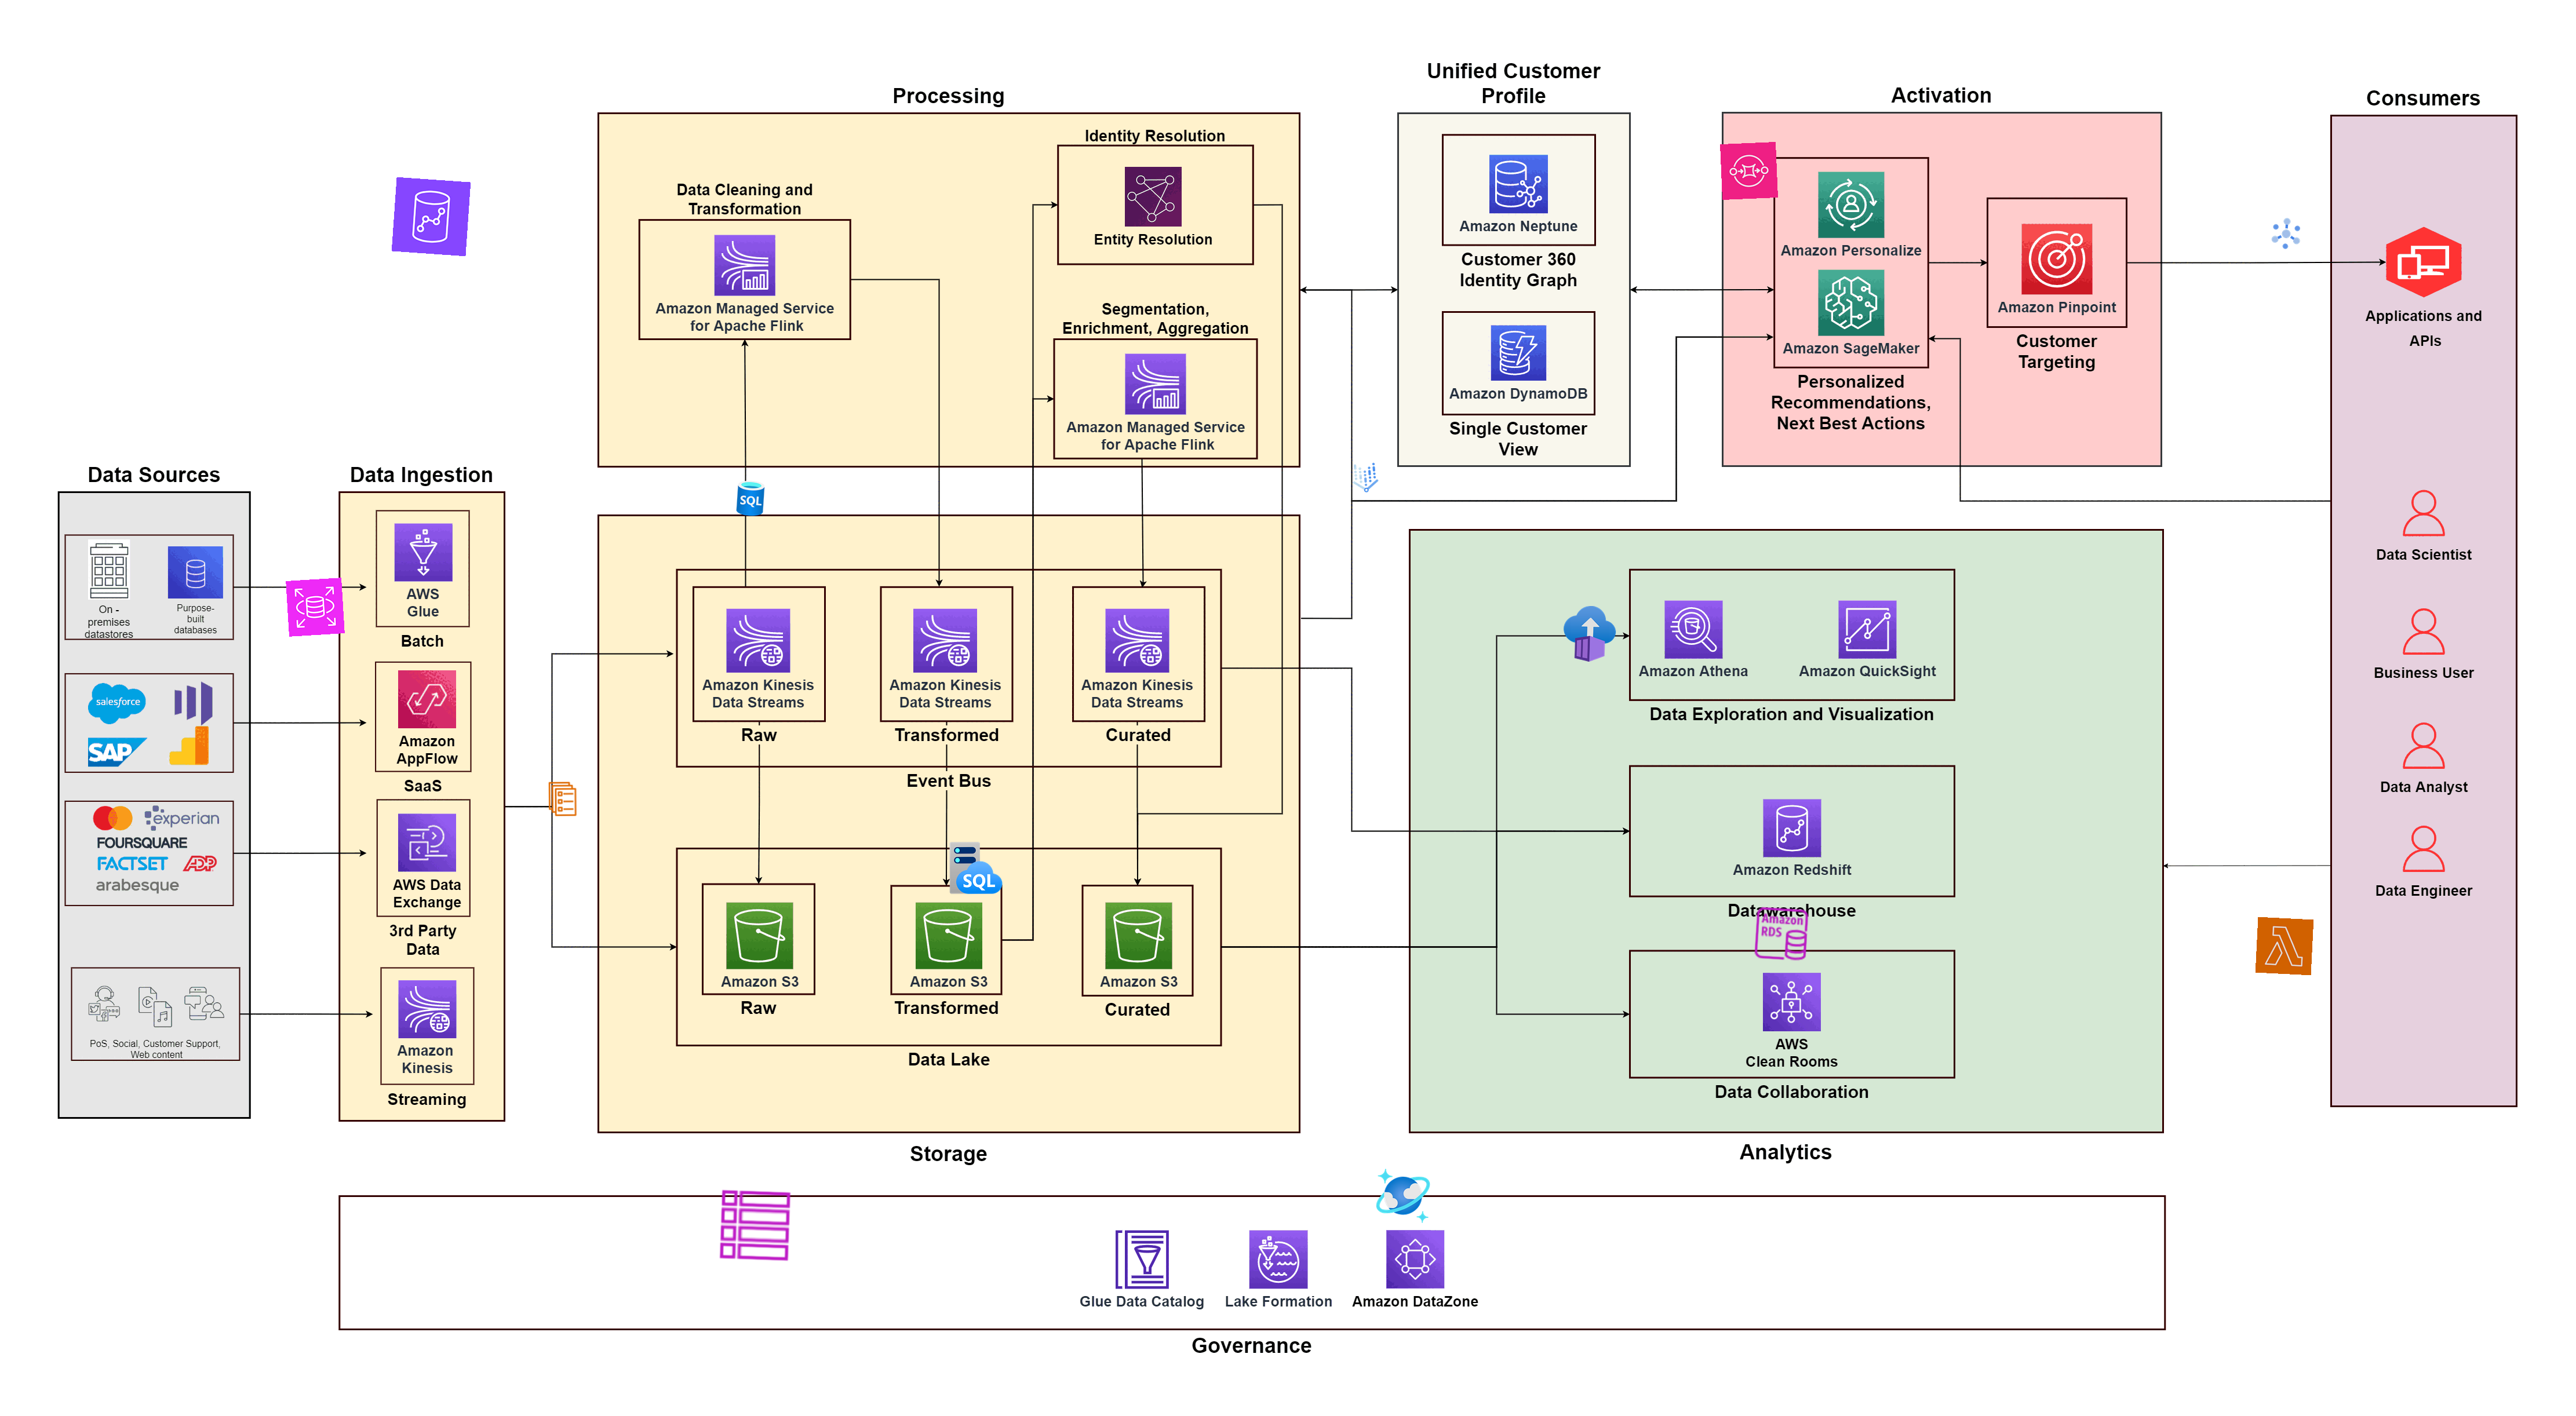aws_amazon_rds: (286, 577, 345, 637)
aws_amazon_redshift: (391, 176, 471, 256)
aws_amazon_simple_queue_service: (1720, 141, 1777, 201)
aws_aurora_amazon_rds_instance: (1751, 905, 1810, 964)
aws_dynamodb_table: (717, 1186, 794, 1264)
aws_elastic_container_service_service: (544, 779, 583, 818)
aws_lambda: (2255, 917, 2314, 975)
azure_container_instances: (1561, 605, 1619, 663)
azure_cosmos_db: (1374, 1167, 1432, 1226)
azure_sql_database: (731, 478, 771, 518)
azure_sql_managed_instance: (947, 839, 1005, 896)
gcp_pubsub: (2266, 213, 2306, 255)
gcp_vertex_ai: (1345, 457, 1385, 499)
